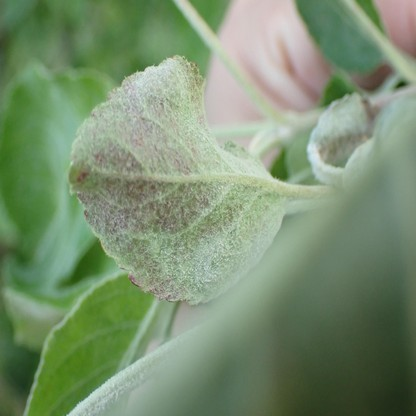powdery_mildew: (68, 56, 288, 301), (307, 93, 376, 187)
